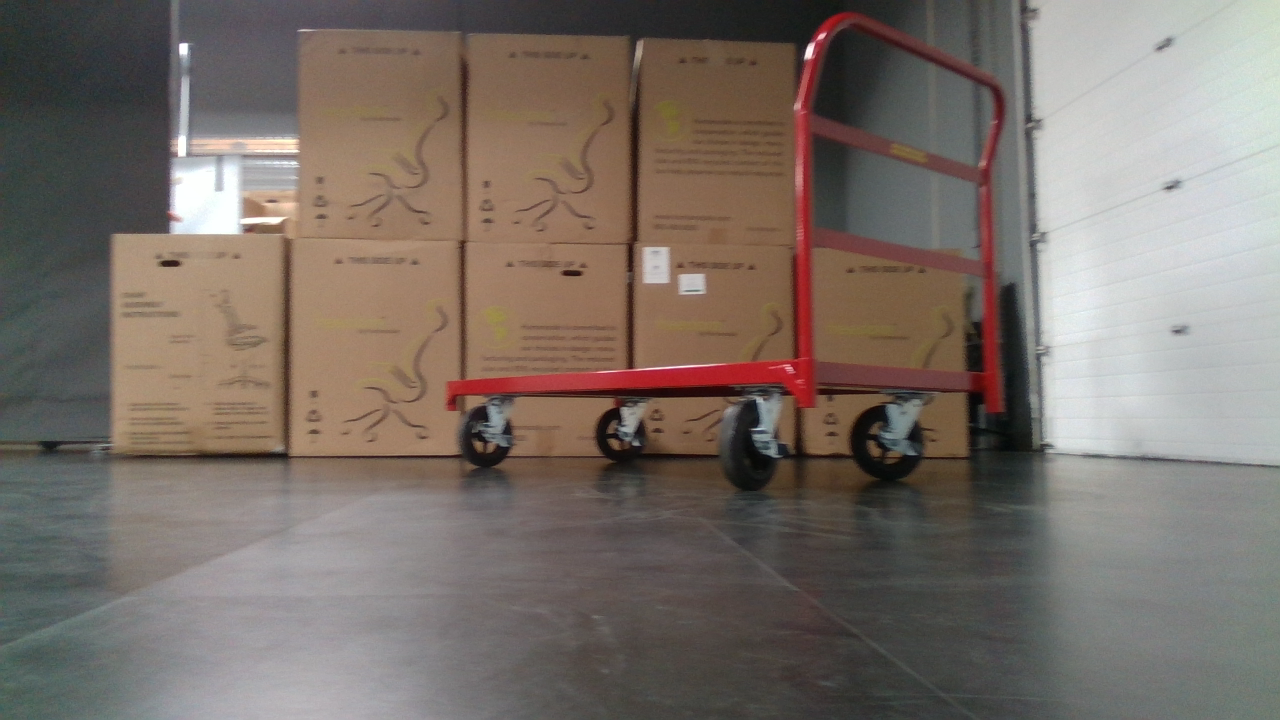Dolly: (436, 9, 1010, 496)
Wheel: (716, 393, 791, 493), (848, 398, 928, 481), (453, 399, 523, 469), (593, 401, 649, 461)
